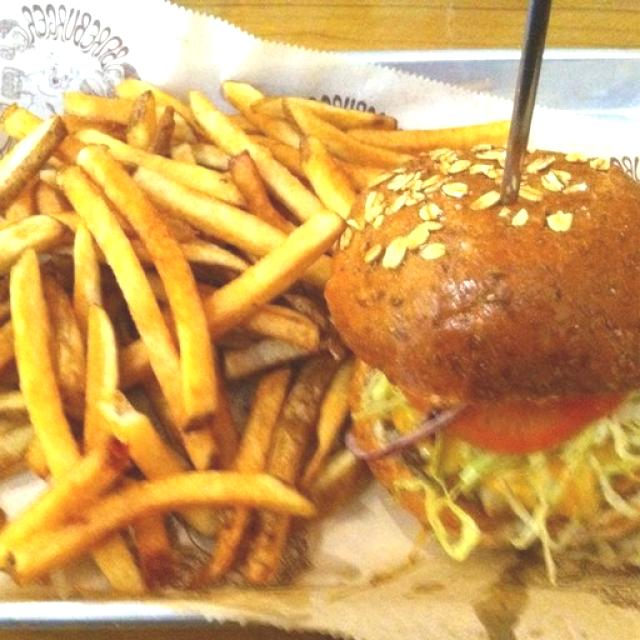burger: (338, 113, 640, 570)
